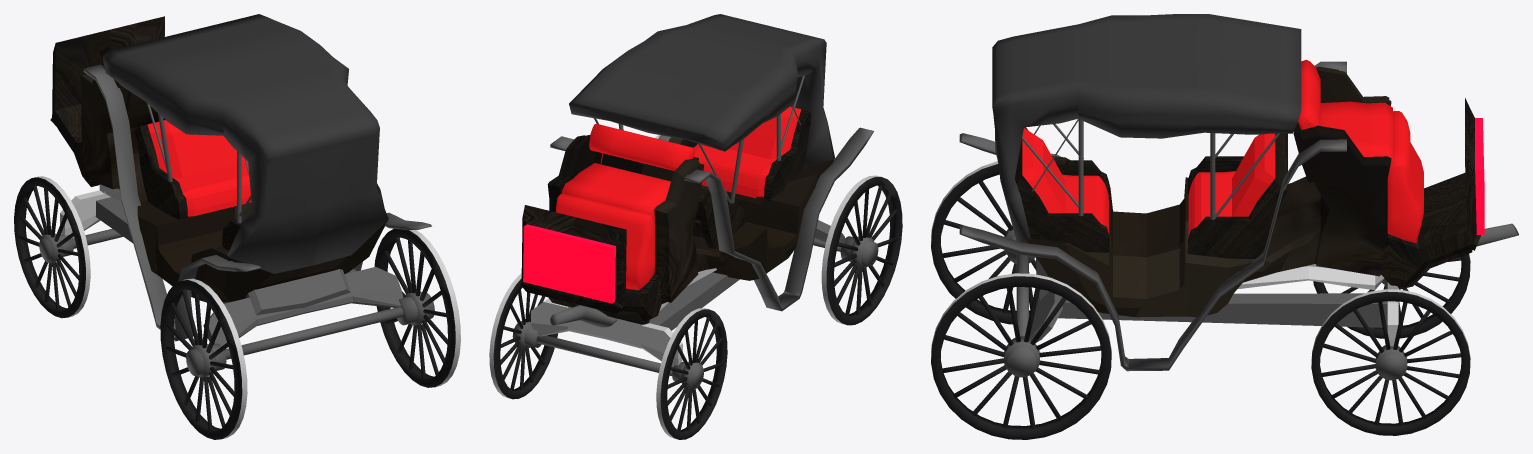
The model's file is carriage.fbx.
The picture shows the model from 3 angles, left to right: view 1: azimuth 30°, elevation 25°; view 2: azimuth 150°, elevation 25°; view 3: azimuth 270°, elevation 25°; orthographic projection. The views are drawn at different scales.
Visible parts, largest first — view 1: Tarp, Wheel.003, Body, Chair 2, Cube.002, Cube.005, Cube.001, Cube.003, Cylinder.001, Cube.004; view 2: Body, Tarp, Wheel.003, front chair, Chair 2, Cube.005, Cube.001, Cube.003, Cylinder.001, Cylinder; view 3: Body, Tarp, Wheel.003, Chair 2, front chair, Cube.004, Cube.003, Cylinder.001, Cube, Cube.002, Cube.005.
Part boxes in pixels (x1,y1,x2,y2): Tarp: (102, 14, 388, 273); Wheel.003: (14, 176, 460, 439); Body: (50, 16, 387, 301); Chair 2: (134, 120, 251, 250); Cube.002: (203, 266, 403, 346); Cube.005: (83, 64, 260, 341); Cube.001: (60, 184, 110, 238); Cube.003: (95, 197, 356, 303); Cylinder.001: (147, 103, 251, 223); Cube.004: (353, 212, 431, 271); Body: (520, 135, 834, 324); Tarp: (569, 14, 834, 166); Wheel.003: (489, 135, 902, 439); front chair: (555, 124, 694, 290); Chair 2: (680, 106, 811, 249); Cube.005: (684, 127, 873, 311); Cube.001: (531, 298, 682, 367); Cube.003: (649, 272, 739, 330); Cylinder.001: (594, 75, 805, 203); Cylinder: (550, 305, 617, 327); Body: (1020, 66, 1484, 317); Tarp: (992, 14, 1301, 241); Wheel.003: (931, 161, 1470, 439); Chair 2: (1014, 127, 1287, 258); front chair: (1298, 59, 1423, 243); Cube.004: (959, 139, 1346, 371); Cube.003: (1058, 293, 1387, 327); Cylinder.001: (1022, 119, 1280, 219); Cube: (1237, 264, 1384, 289); Cube.002: (1029, 256, 1062, 342); Cube.005: (959, 61, 1346, 211).
Bounding box in the file's own units: 5.19 × 6.35 × 10.16.
Materials: 7 (1 with a texture image).
